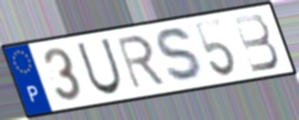3: (42, 46, 84, 104)
5: (192, 15, 240, 79)
B: (230, 12, 282, 75)
R: (113, 32, 169, 92)
S: (155, 26, 209, 85)
U: (74, 36, 125, 97)
